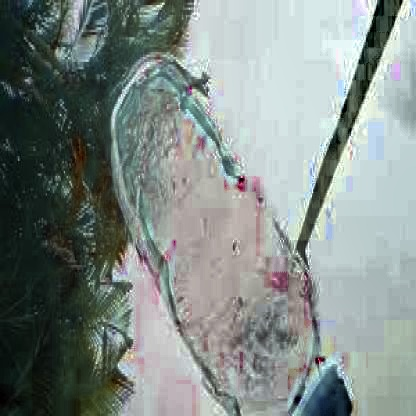pbottle: (90, 47, 369, 416)
